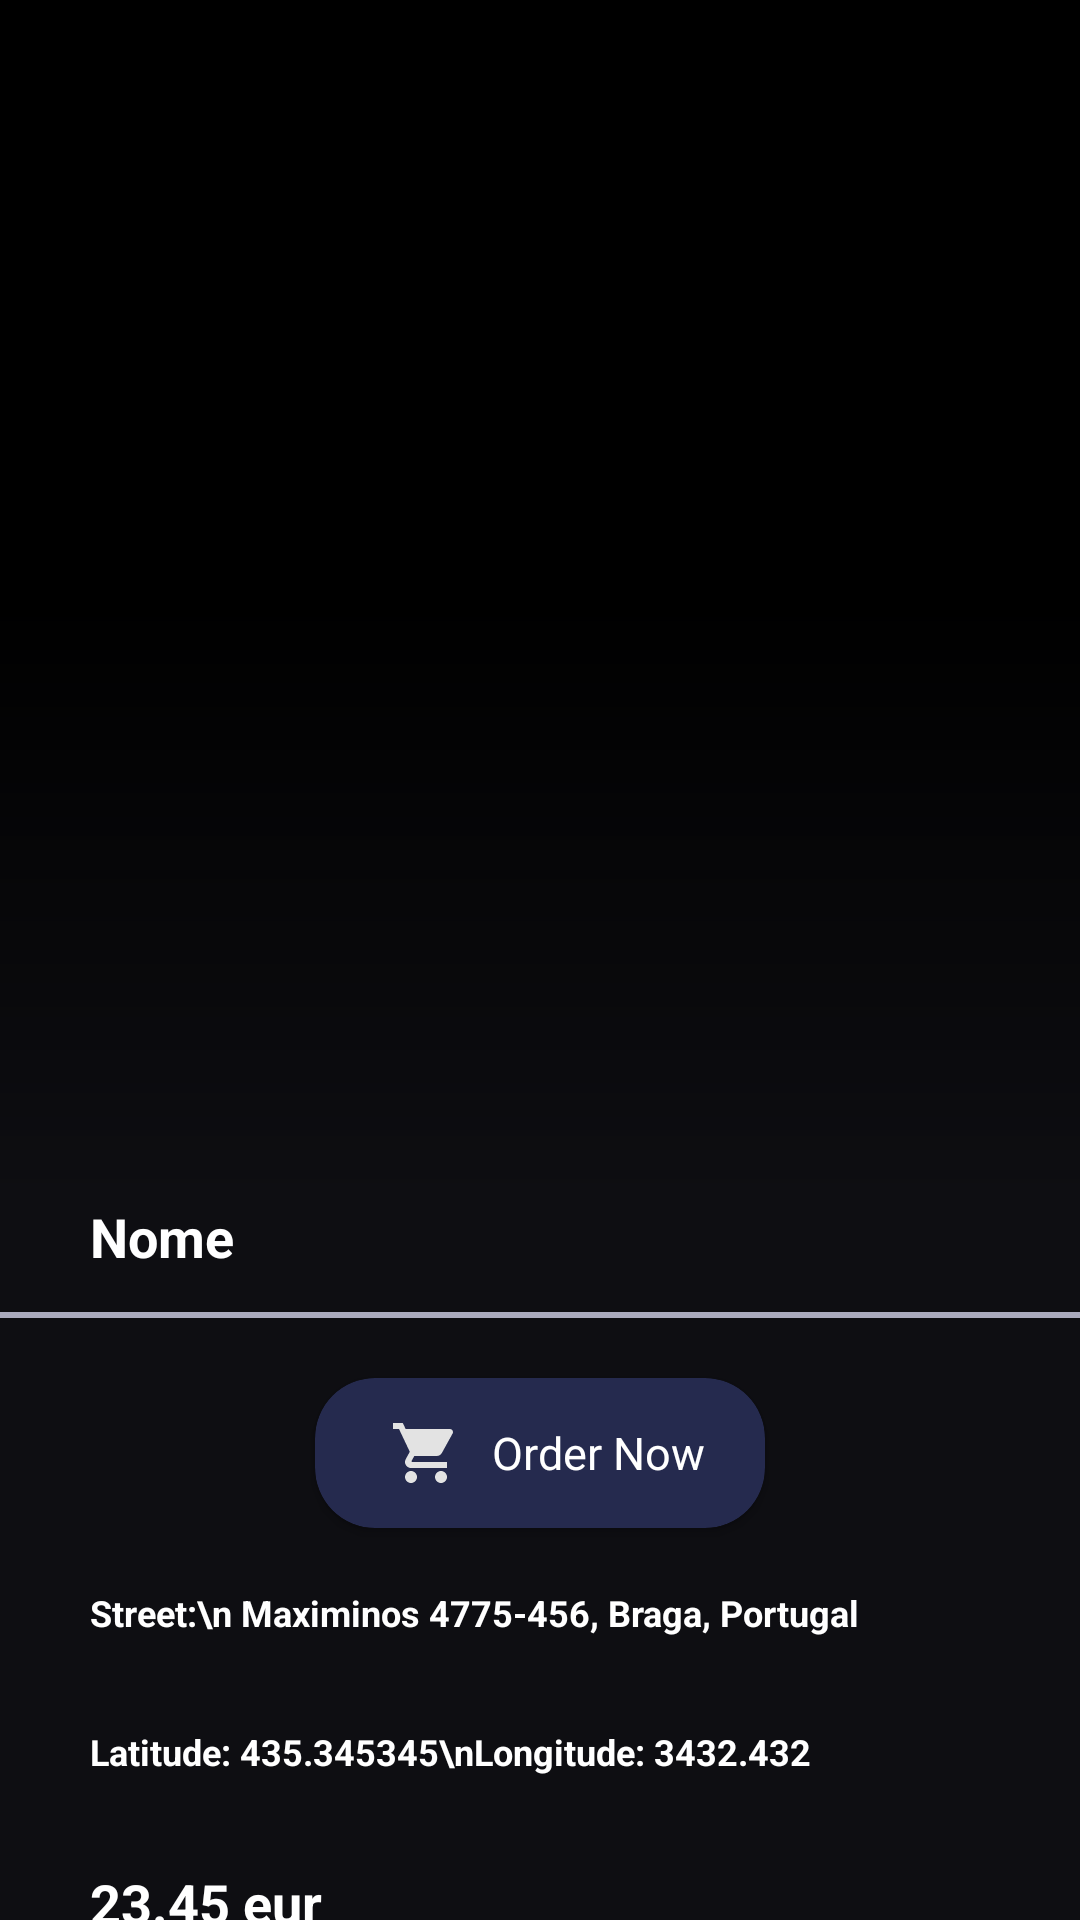

Icons on this 1080 x 1920 Android screen, each with its box as Rect(x1, y1, x2, y2):
shop cart: Rect(393, 1423, 453, 1483)
